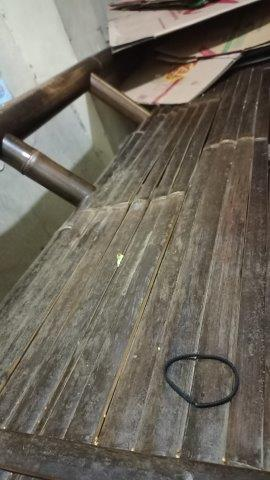kardus: (109, 1, 270, 102)
karet: (163, 354, 240, 408)
